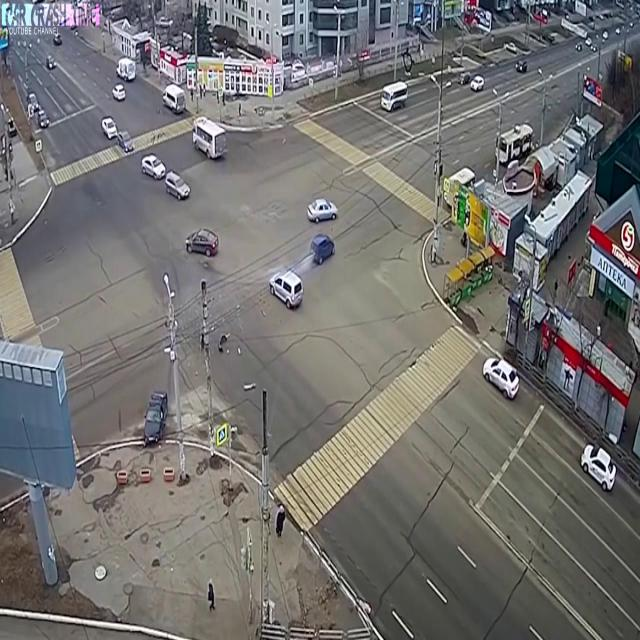accident: (266, 230, 340, 318), (134, 374, 174, 462)
non_accident: (140, 150, 196, 209), (97, 109, 138, 159)
